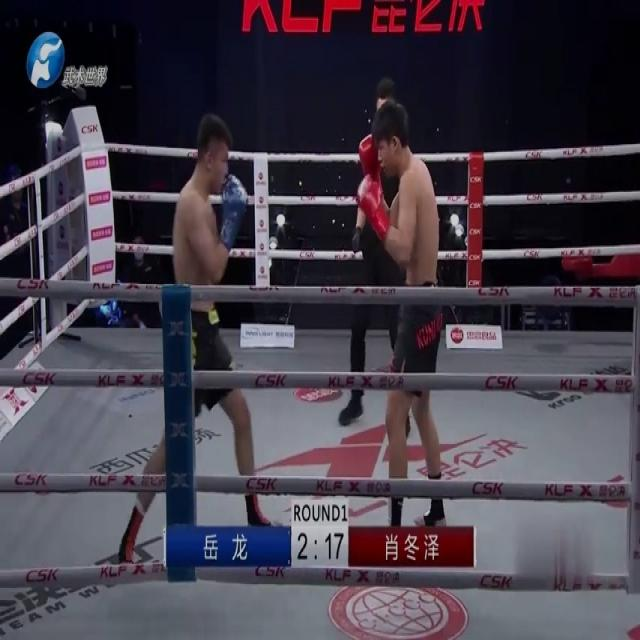fight: (115, 92, 455, 572)
non-fight: (344, 87, 412, 424)
